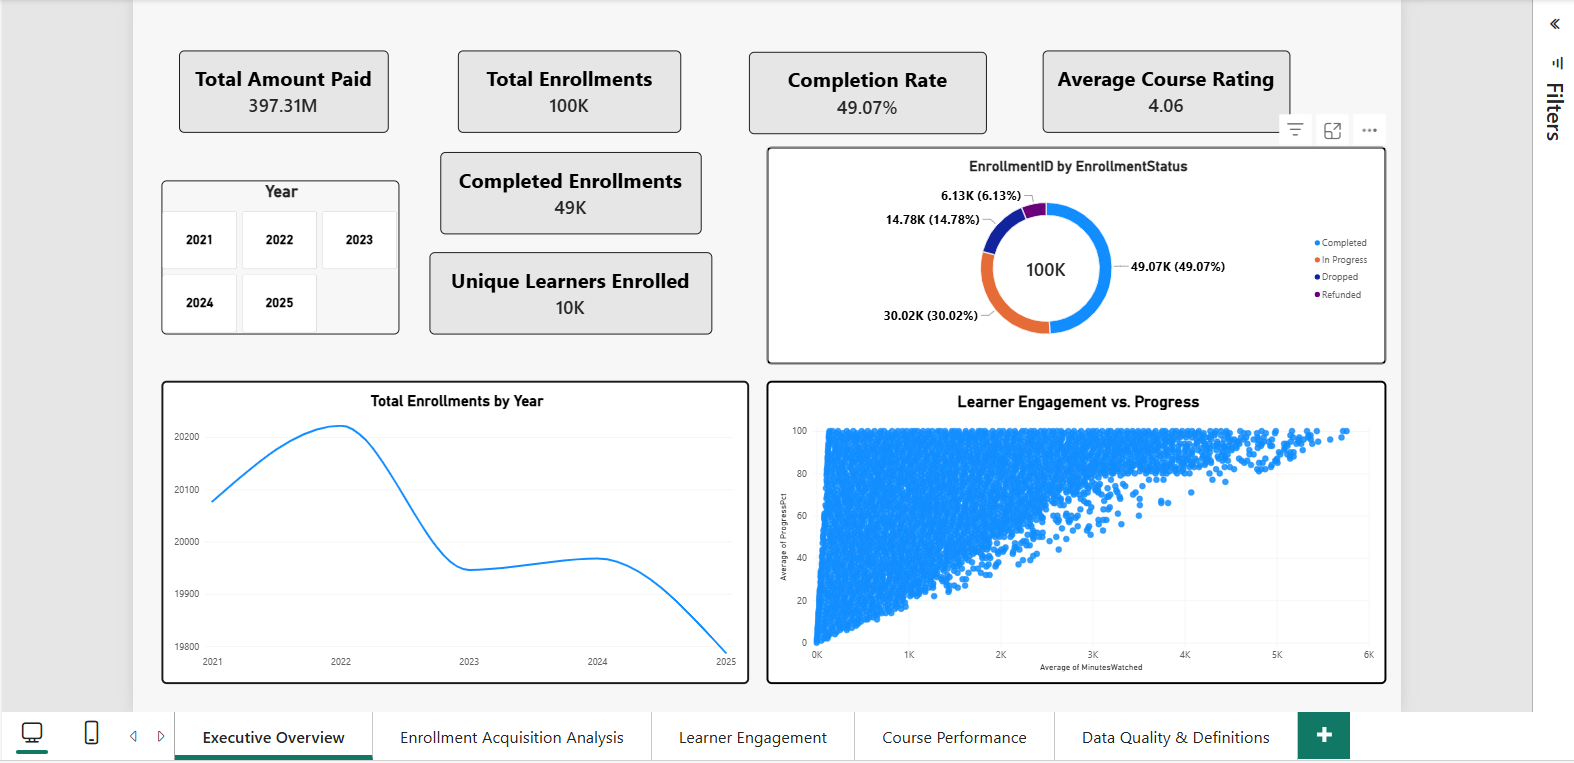

The page's visual inventory and layout, read from the dashboard file:
{"tool":"powerbi","page":{"name":"Executive Overview","canvas":[1920,1080],"ordinal":0},"visuals":[{"type":"cardVisual","title":"Total Amount Paid","fields":{"Data":["Enrollments.Total Amount Paid"]},"box":[69.7,77.9,317.8,125.1],"z":0},{"type":"cardVisual","fields":{"Data":["Enrollments.Total Enrollments"]},"box":[492.1,77.9,338.3,125.1],"z":1000},{"type":"cardVisual","fields":{"Data":["Enrollments.Unique Learners Enrolled"]},"box":[449,383.4,428.5,125.1],"z":2000},{"type":"cardVisual","fields":{"Data":["Enrollments.Average Course Rating"]},"box":[1377.8,77.9,375.2,125.1],"z":3000},{"type":"cardVisual","fields":{"Data":["Enrollments.Completed Enrollments"]},"box":[465.4,231.7,395.7,125.1],"z":4000},{"type":"cardVisual","fields":{"Data":["Enrollments.Completion Rate"]},"box":[932.9,80,360.9,125.1],"z":5000},{"type":"lineChart","fields":{"Category":["DateTable.Date.Variation.Date Hierarchy.Year","DateTable.Date.Variation.Date Hierarchy.Month"],"Y":["Enrollments.Total Enrollments"]},"box":[43.1,578.2,889.8,459.3],"z":6000},{"type":"advancedSlicerVisual","fields":{"Values":["DateTable.Year"]},"box":[43.1,274.7,360.9,233.7],"z":7000},{"type":"scatterChart","title":"Learner Engagement vs. Progress","fields":{"Category":["Enrollments.EnrollmentID"],"X":["Avg(LearningActivity.MinutesWatched)"],"Y":["Avg(Enrollments.ProgressPct)"]},"box":[959.5,578.2,939,459.3],"z":7001},{"type":"donutChart","title":"EnrollmentID by EnrollmentStatus","fields":{"Category":["Enrollments.EnrollmentStatus"],"Y":["CountNonNull(Enrollments.EnrollmentID)"]},"box":[959.5,223.5,939,330.1],"z":7003}]}

Visuals, with their boxes on the page's 1920x1080 design canvas (x1, y1, x2, y2). These are canvas units, not pixel positions in the 1574x763 screenshot, which may show the page scaled, cropped or inside an application window:
"Total Amount Paid" cardVisual: <region>70, 78, 388, 203</region>
cardVisual - Enrollments.Total Enrollments: <region>492, 78, 830, 203</region>
cardVisual - Enrollments.Unique Learners Enrolled: <region>449, 383, 878, 508</region>
cardVisual - Enrollments.Average Course Rating: <region>1378, 78, 1753, 203</region>
cardVisual - Enrollments.Completed Enrollments: <region>465, 232, 861, 357</region>
cardVisual - Enrollments.Completion Rate: <region>933, 80, 1294, 205</region>
lineChart - DateTable.Date.Variation.Date Hierarchy.Year x DateTable.Date.Variation.Date Hierarchy.Month: <region>43, 578, 933, 1038</region>
advancedSlicerVisual - DateTable.Year: <region>43, 275, 404, 508</region>
"Learner Engagement vs. Progress" scatterChart: <region>960, 578, 1898, 1038</region>
"EnrollmentID by EnrollmentStatus" donutChart: <region>960, 224, 1898, 554</region>
